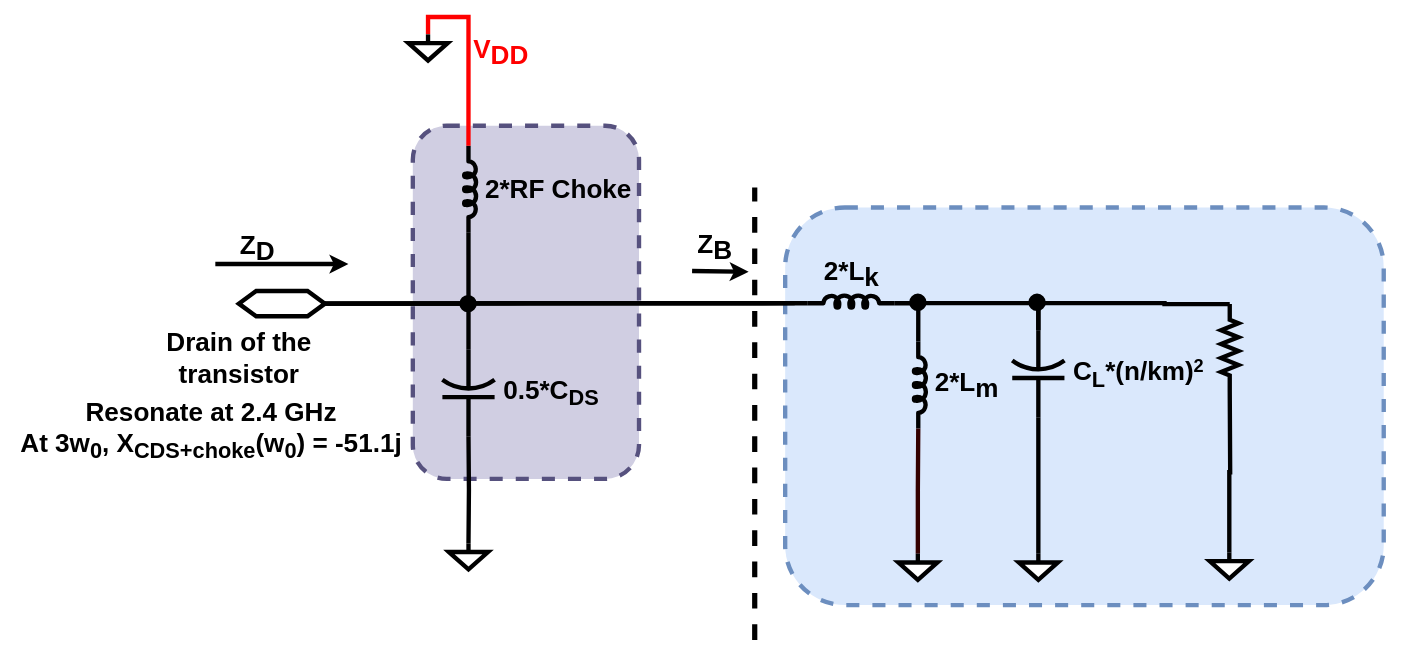
Some shapes in this 1401 by 659 pixel diagram are drawn without their labels. The centre of each missing label's shape, as x and y in pixels:
"P/N" goes at [281,303].
"R L *(km/n) 2" goes at [1229,347].
